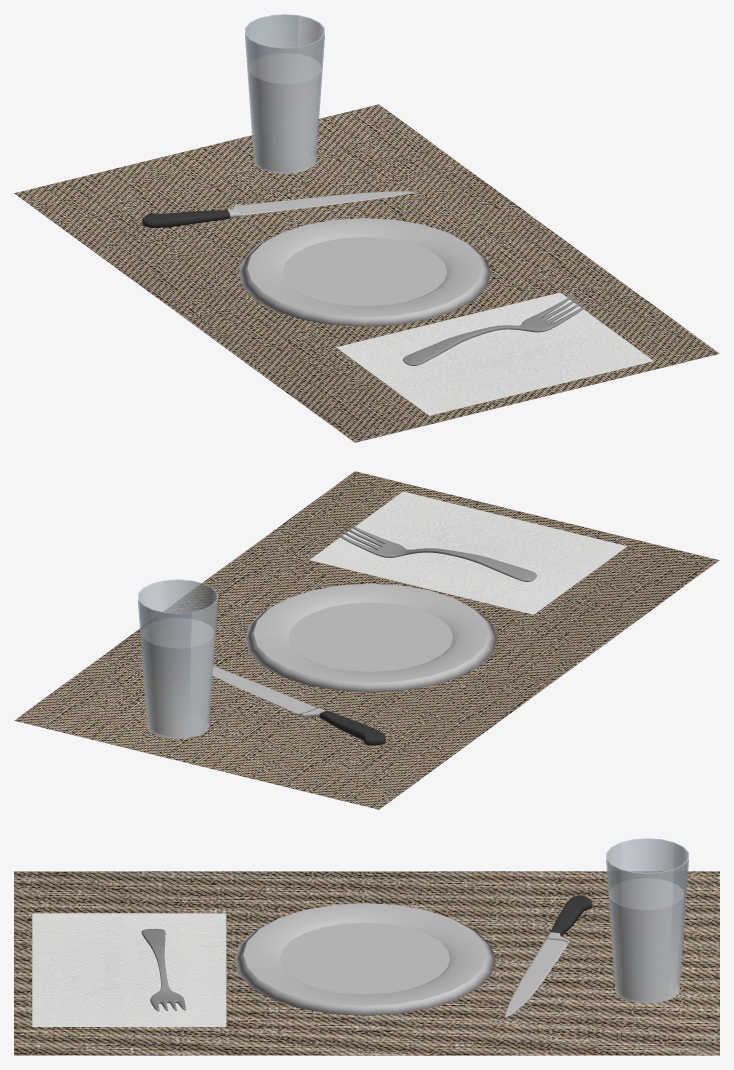
File: low_poly_tableware-opt.glb
3 views of the same model, one above another, from view 1: azimuth 30°, elevation 25°; view 2: azimuth 150°, elevation 25°; view 3: azimuth 270°, elevation 25° (orthographic). The views are drawn at different scales.
Parts seen in each view (by area): view 1: Mat_24 - Default_0, Fork_02 - Default_0, Towel_10 - Default_0, Glass_03 - Default_0, Glass_23 - Default_0; view 2: Mat_24 - Default_0, Fork_02 - Default_0, Towel_10 - Default_0, Glass_03 - Default_0, Glass_23 - Default_0; view 3: Mat_24 - Default_0, Fork_02 - Default_0, Towel_10 - Default_0, Glass_03 - Default_0, Glass_23 - Default_0.
Part boxes in pixels (x1,y1,x2,y2): Mat_24 - Default_0: (14,104,719,442); Fork_02 - Default_0: (142,191,589,365); Towel_10 - Default_0: (336,292,653,415); Glass_03 - Default_0: (245,14,324,173); Glass_23 - Default_0: (249,53,321,171); Mat_24 - Default_0: (14,471,719,809); Fork_02 - Default_0: (212,523,536,745); Towel_10 - Default_0: (310,491,627,614); Glass_03 - Default_0: (138,579,217,738); Glass_23 - Default_0: (142,618,213,736); Mat_24 - Default_0: (14,871,719,1055); Fork_02 - Default_0: (141,895,592,1017); Towel_10 - Default_0: (32,913,226,1026); Glass_03 - Default_0: (606,838,688,1003); Glass_23 - Default_0: (609,878,683,1001).
Size of the model in its own units: 297 by 101 by 481.
Materials: 5 (5 with a texture image).
